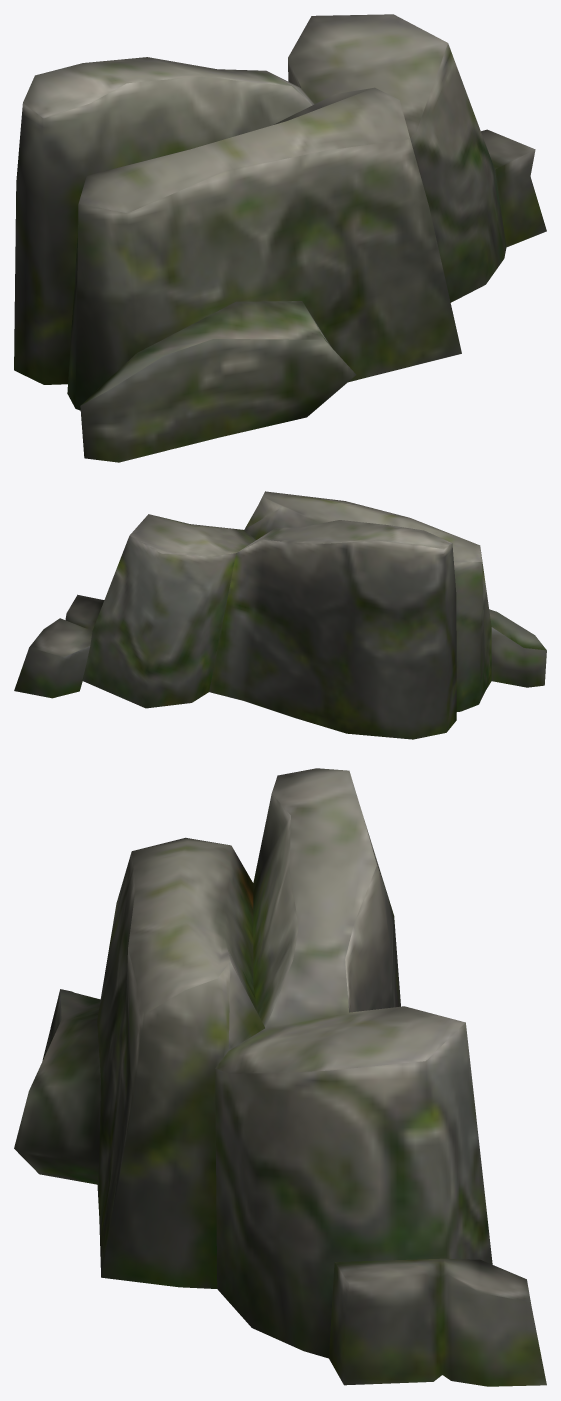
File: Stage_ZhuCheng_HeShi01.FBX
3 renders of one model, top to bottom at view 1: azimuth 30°, elevation 25°; view 2: azimuth 150°, elevation 25°; view 3: azimuth 270°, elevation 25°, orthographic. The views are drawn at different scales.
Parts seen in each view (by area): view 1: Stage_ZhuCheng_HeShi01; view 2: Stage_ZhuCheng_HeShi01; view 3: Stage_ZhuCheng_HeShi01.
Boxes of the visible parts, <box> form: Stage_ZhuCheng_HeShi01: <box>14,14,546,462</box>; Stage_ZhuCheng_HeShi01: <box>14,491,546,739</box>; Stage_ZhuCheng_HeShi01: <box>14,768,546,1386</box>.
Size of the model in its own units: 219 by 99.62 by 148.
